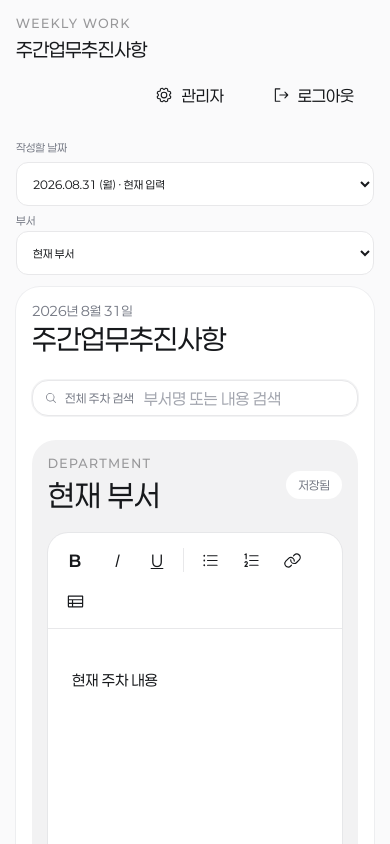
Test: Workspace › Given the current department exists in the chosen week snapshot, when the date changes, then it retains that department id and reloads its draft
The width and height of the screenshot is (390, 844).
Select "2026.08.24 (월) · 이전 자료" in the dropdown labelled "작성할 날짜" at (195, 184), box left=16, top=162, right=374, bottom=206
(page scrolled)
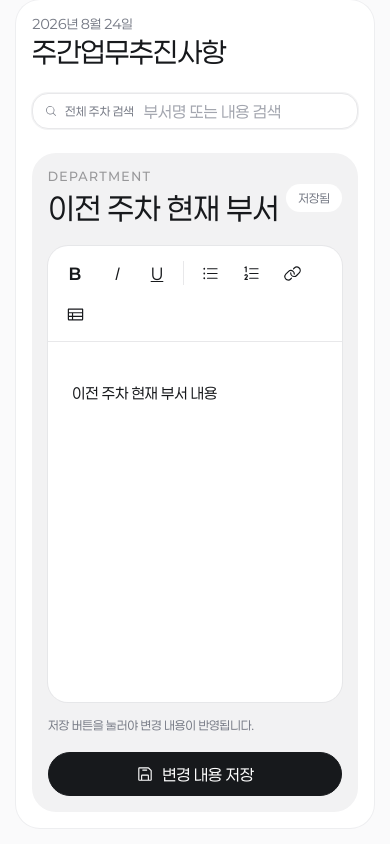
Expected: the heading "이전 주차 현재 부서" is shown, left=48, top=191, right=279, bottom=226
Expected: the field named "업무 내용" reads "이전 주차 현재 부서 내용", left=72, top=384, right=217, bottom=402
